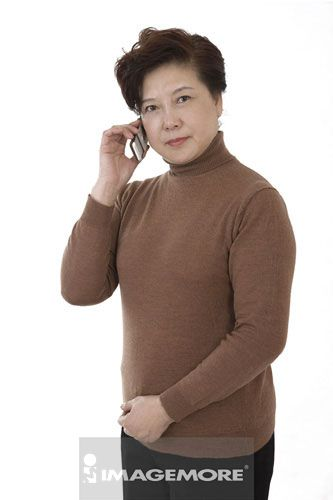talk: (98, 84, 198, 191)
